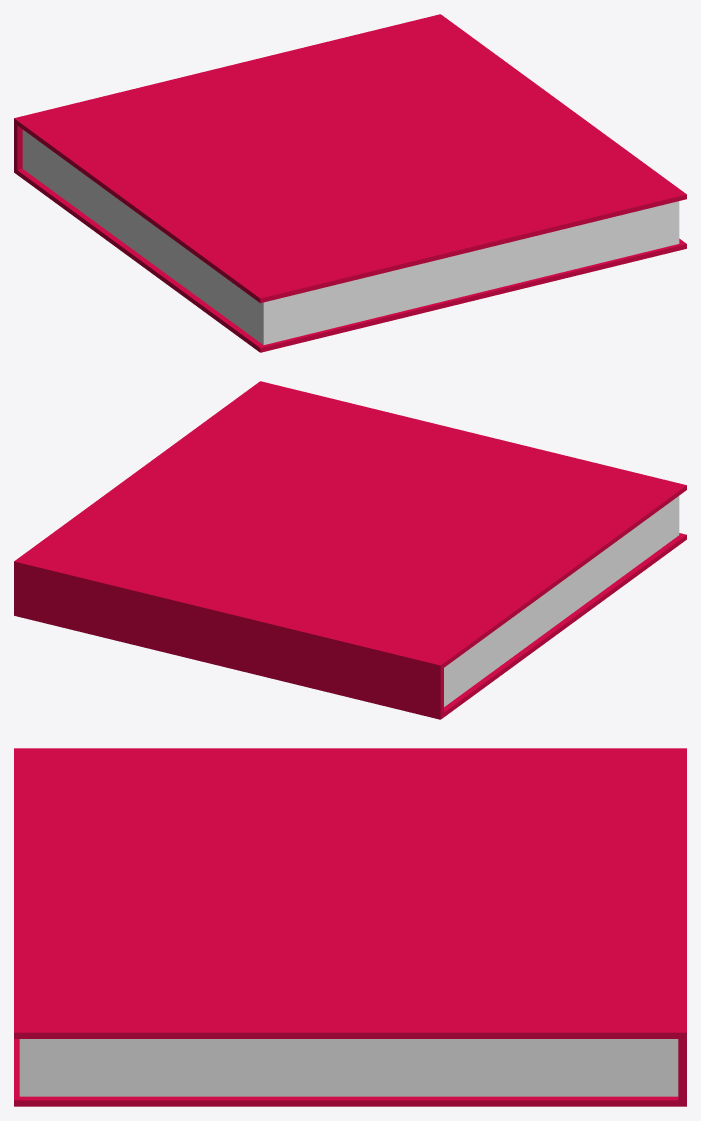
Rendered from book.fbx.
3 renders of one model, top to bottom at view 1: azimuth 30°, elevation 25°; view 2: azimuth 150°, elevation 25°; view 3: azimuth 270°, elevation 25°, orthographic. The views are drawn at different scales.
Visible parts, largest first — view 1: Cube; view 2: Cube; view 3: Cube.
Boxes of the visible parts, x1=… form: Cube: x1=14, y1=14, x2=686, y2=352; Cube: x1=14, y1=381, x2=686, y2=719; Cube: x1=14, y1=748, x2=686, y2=1106.
Bounding box in the file's own units: 200 × 24.33 × 200.
